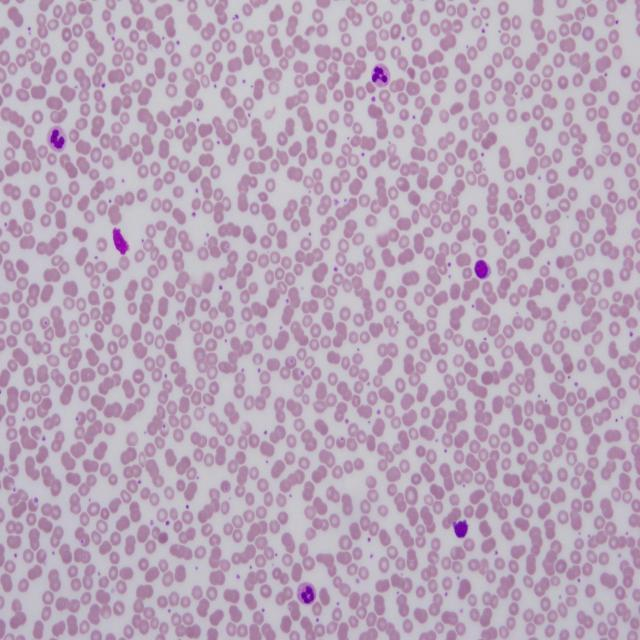cell: (371, 64, 390, 88), (48, 126, 66, 151), (298, 582, 316, 604)
